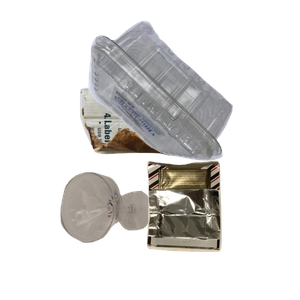cardboard: (77, 79, 251, 227)
glass: (58, 170, 202, 300)
plastic: (86, 18, 300, 171)
trash: (144, 158, 300, 300)
